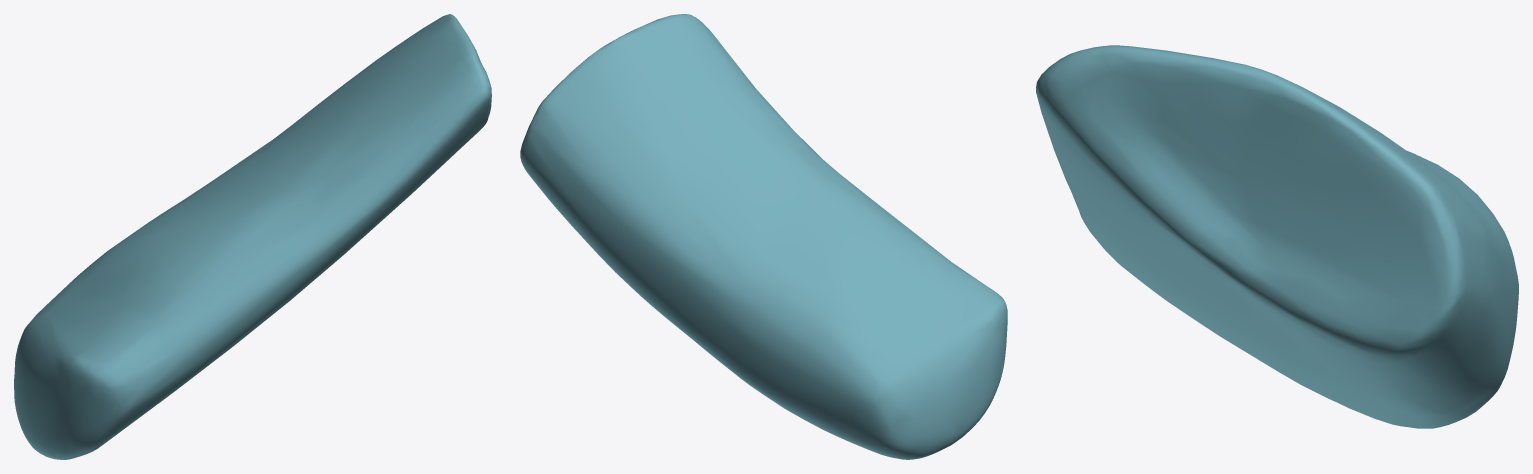
3 views of the same model, side by side, from view 1: azimuth 30°, elevation 25°; view 2: azimuth 150°, elevation 25°; view 3: azimuth 270°, elevation 25° (orthographic). The views are drawn at different scales.
Visible parts, largest first — view 1: 左侧第二肋软骨; view 2: 左侧第二肋软骨; view 3: 左侧第二肋软骨.
Part boxes in pixels (x1,y1,x2,y2): 左侧第二肋软骨: (14,14,491,459); 左侧第二肋软骨: (520,14,1007,459); 左侧第二肋软骨: (1036,45,1518,428).
Size of the model in its own units: 0.0491 by 0.0358 by 0.0247.
